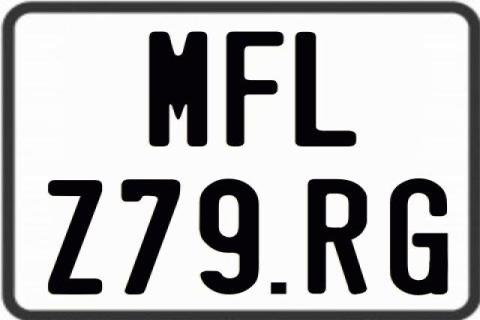0: (198, 179, 264, 297), (120, 178, 180, 296)
F: (225, 31, 284, 150)
G: (390, 178, 451, 298)
L: (293, 32, 359, 148)
M: (147, 29, 207, 149)
R: (306, 177, 365, 295)
Z: (48, 179, 108, 297)
